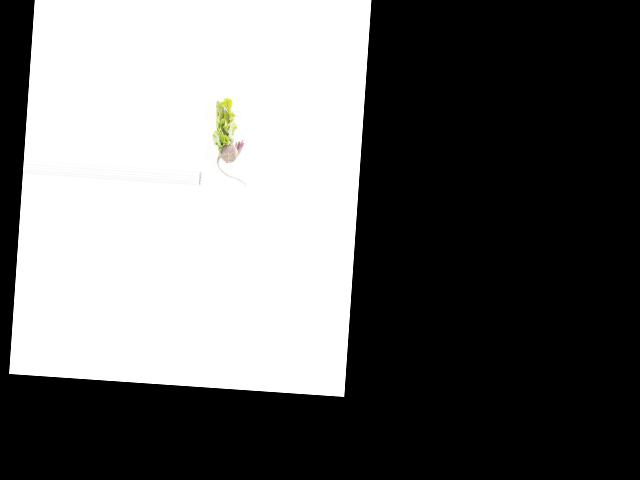beet: (215, 138, 249, 186)
